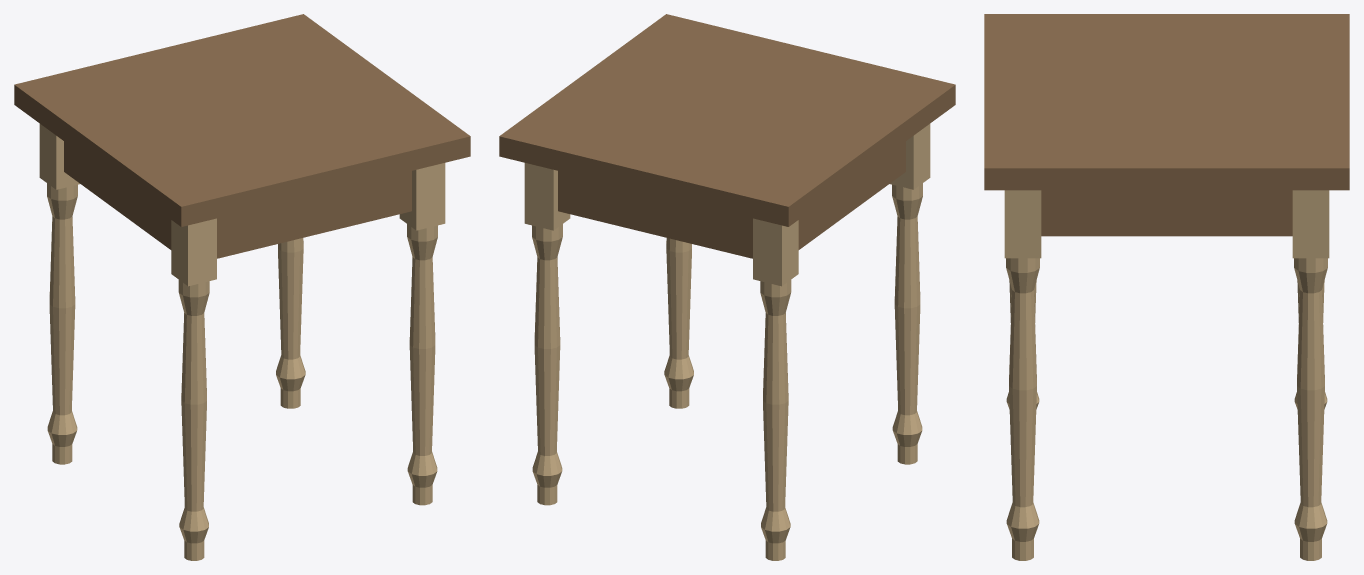
File: BIB-SID-std.glb
The picture shows the model from 3 angles, left to right: view 1: azimuth 30°, elevation 25°; view 2: azimuth 150°, elevation 25°; view 3: azimuth 270°, elevation 25°; orthographic projection. The views are drawn at different scales.
Parts seen in each view (by area): view 1: top:pbr, leg-fl:pbr, leg-fr:pbr, leg-bl:pbr, apron-f:pbr, leg-br:pbr, apron-l:pbr; view 2: top:pbr, leg-bl:pbr, leg-br:pbr, leg-fl:pbr, apron-b:pbr, leg-fr:pbr, apron-l:pbr; view 3: top:pbr, apron-r:pbr, leg-fr:pbr, leg-br:pbr.
Part boxes in pixels (x1,y1,x2,y2): top:pbr: (14,14,470,226); leg-fl:pbr: (171,218,216,560); leg-fr:pbr: (399,163,445,505); leg-bl:pbr: (39,124,79,464); apron-f:pbr: (217,171,411,258); leg-br:pbr: (276,238,305,408); apron-l:pbr: (64,141,171,249); top:pbr: (499,14,955,226); leg-bl:pbr: (753,218,798,560); leg-br:pbr: (524,163,570,505); leg-fl:pbr: (890,124,930,464); apron-b:pbr: (558,171,752,258); leg-fr:pbr: (664,238,693,408); apron-l:pbr: (798,141,905,249); top:pbr: (984,14,1349,190); apron-r:pbr: (1041,190,1292,236); leg-fr:pbr: (1004,190,1041,560); leg-br:pbr: (1292,190,1329,560).
Size of the model in its own units: 0.45 by 0.55 by 0.45.
